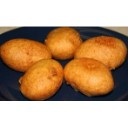bonda: (79, 31, 125, 70), (63, 58, 114, 92), (20, 62, 64, 99), (2, 37, 51, 66), (48, 25, 79, 58)
